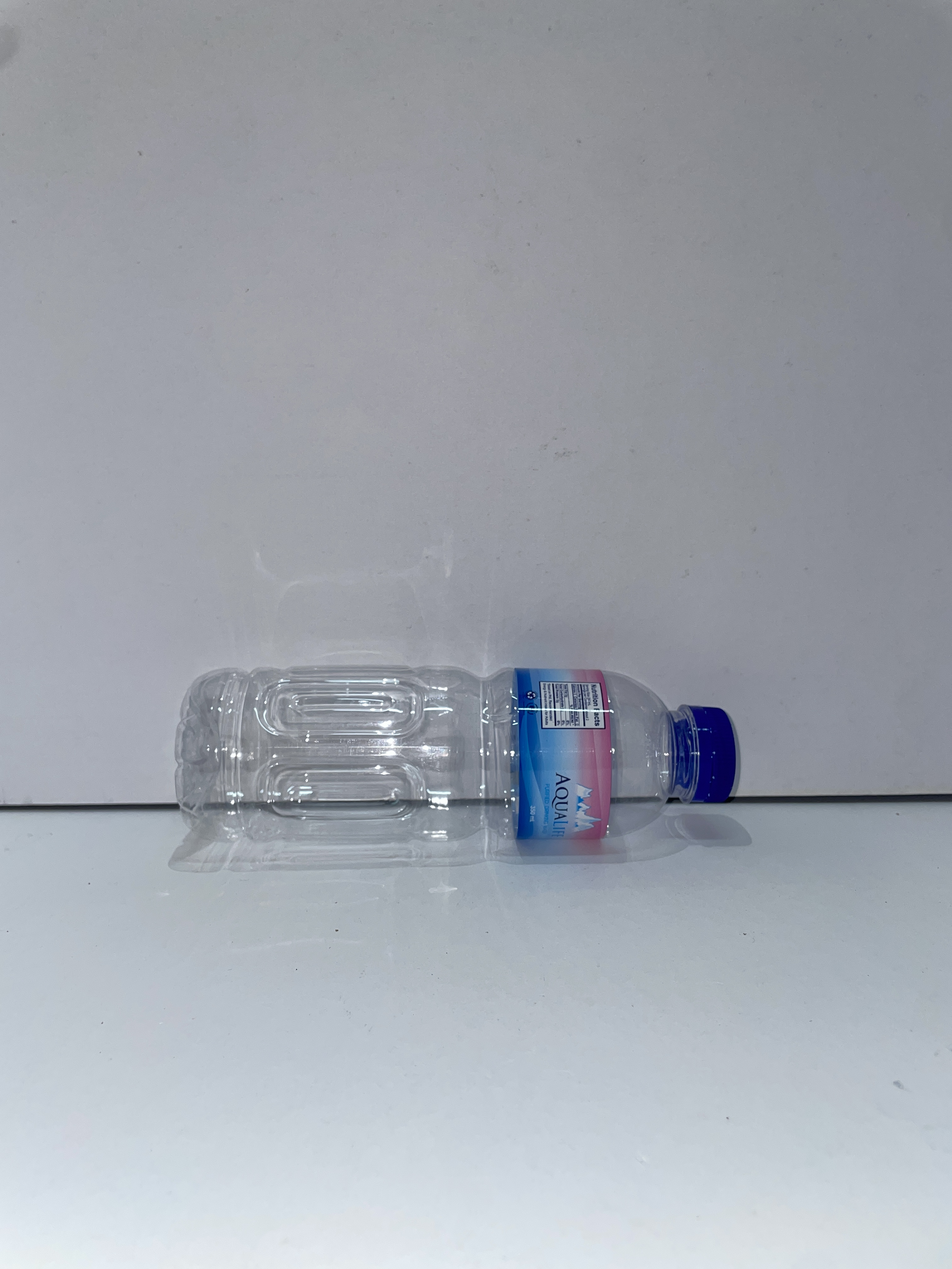Aqua Life 350ml: (176, 666, 737, 856)
